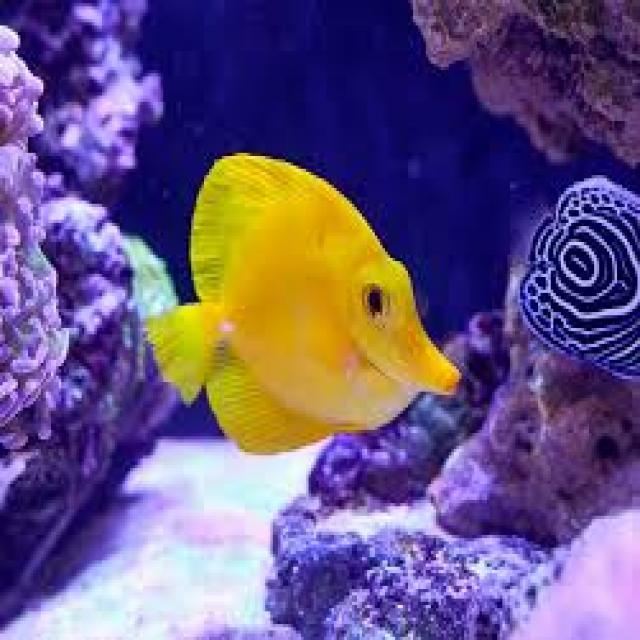YellowTang: (141, 138, 468, 467)
